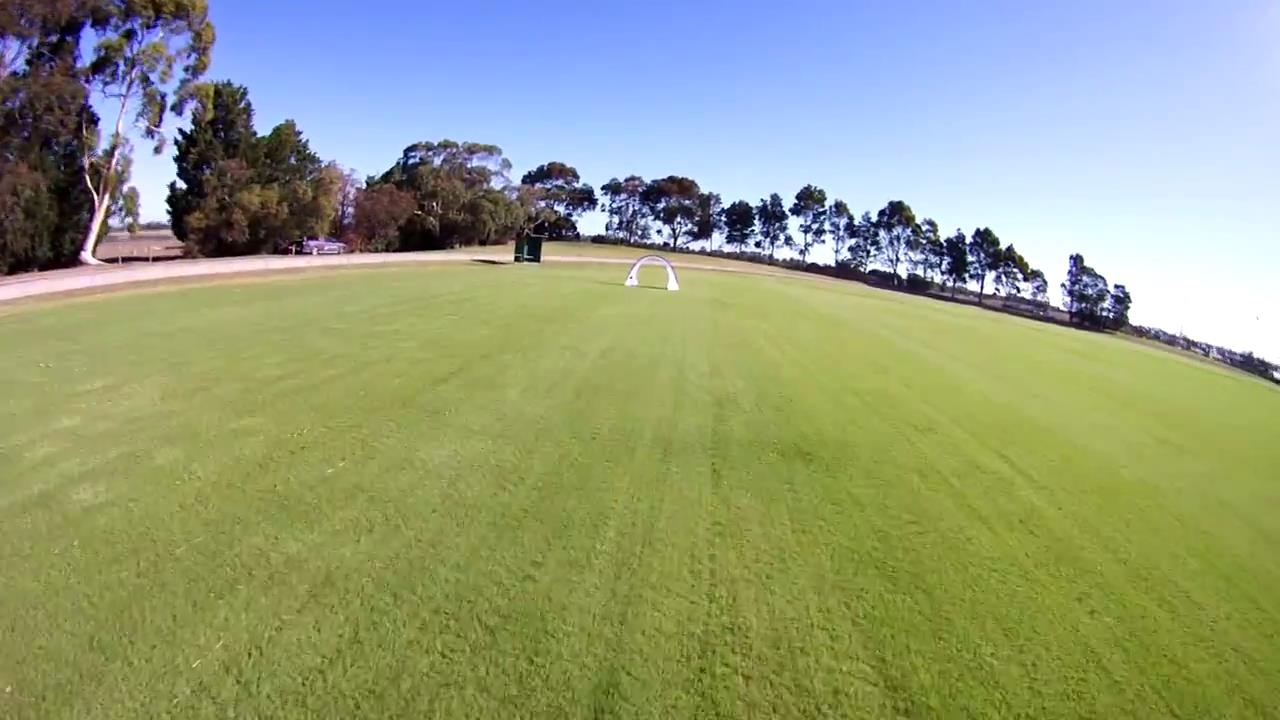gate: (623, 254, 681, 293)
